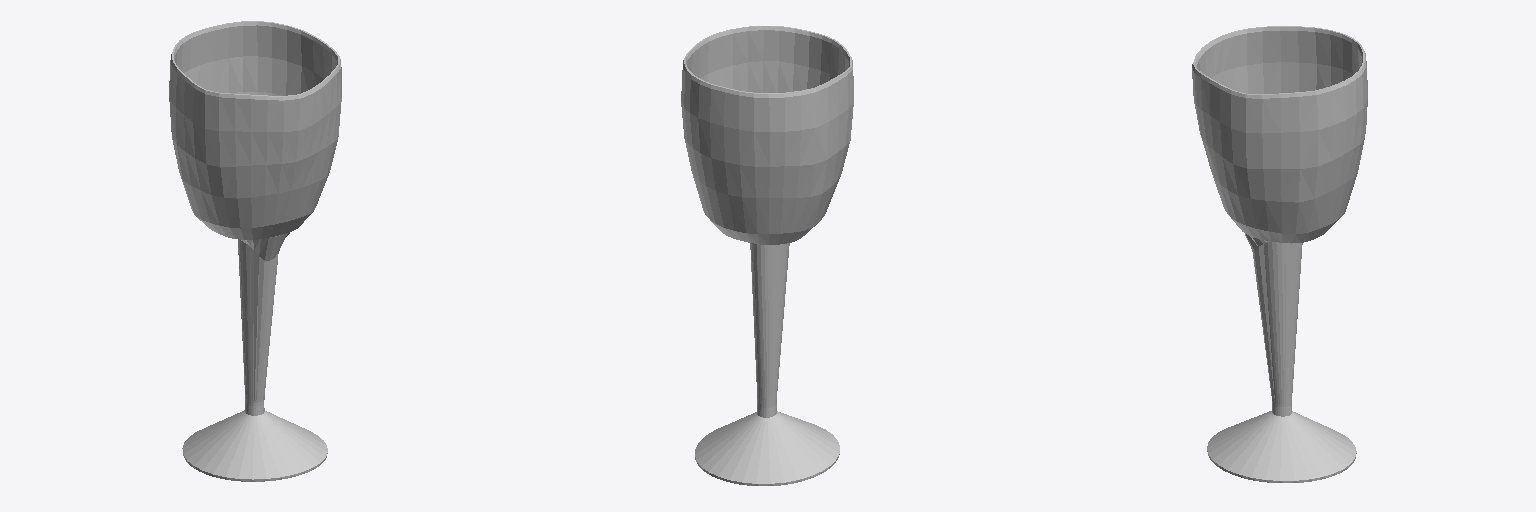
File: wijnglas.obj
The picture shows the model from 3 angles: view 1: azimuth 30°, elevation 25°; view 2: azimuth 150°, elevation 25°; view 3: azimuth 270°, elevation 25°; orthographic projection.
Parts seen in each view (by area): view 1: bowl.001_Sphere.001; view 2: bowl.001_Sphere.001; view 3: bowl.001_Sphere.001.
Part boxes in pixels (x1,y1,x2,y2): bowl.001_Sphere.001: (169,21,341,481); bowl.001_Sphere.001: (681,26,853,485); bowl.001_Sphere.001: (1192,26,1367,482).
Bounding box in the file's own units: 0.7686 × 2.04 × 0.8196.